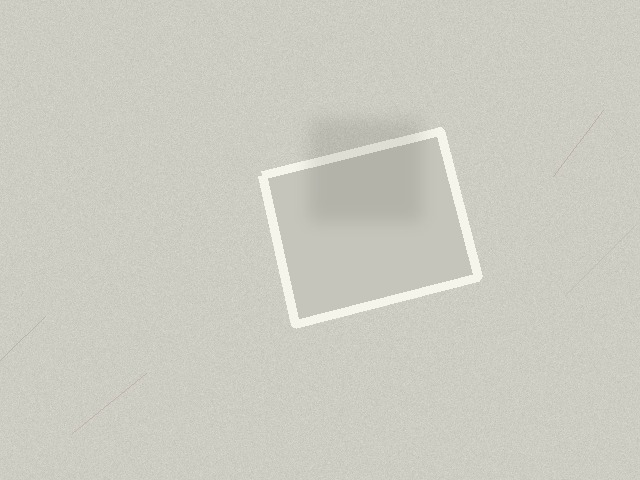parking_area: (262, 131, 478, 324)
